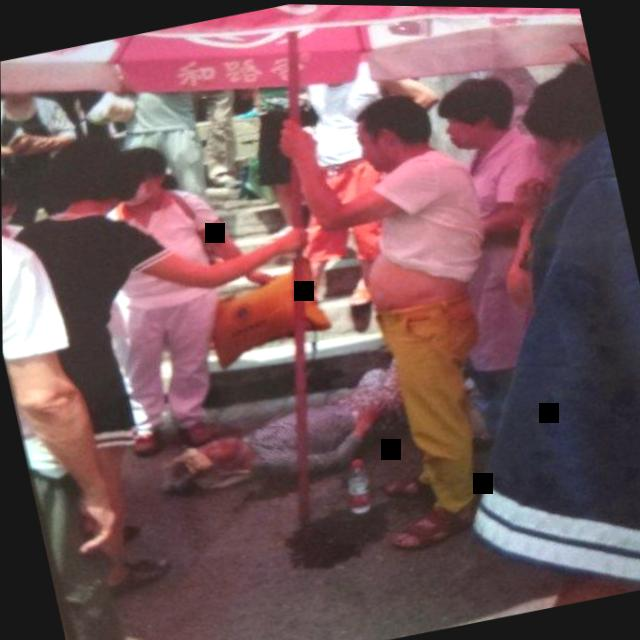Fall-Detected: (137, 313, 490, 518)
